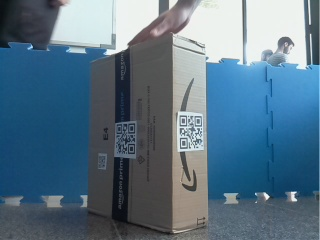caja: (89, 37, 208, 223)
